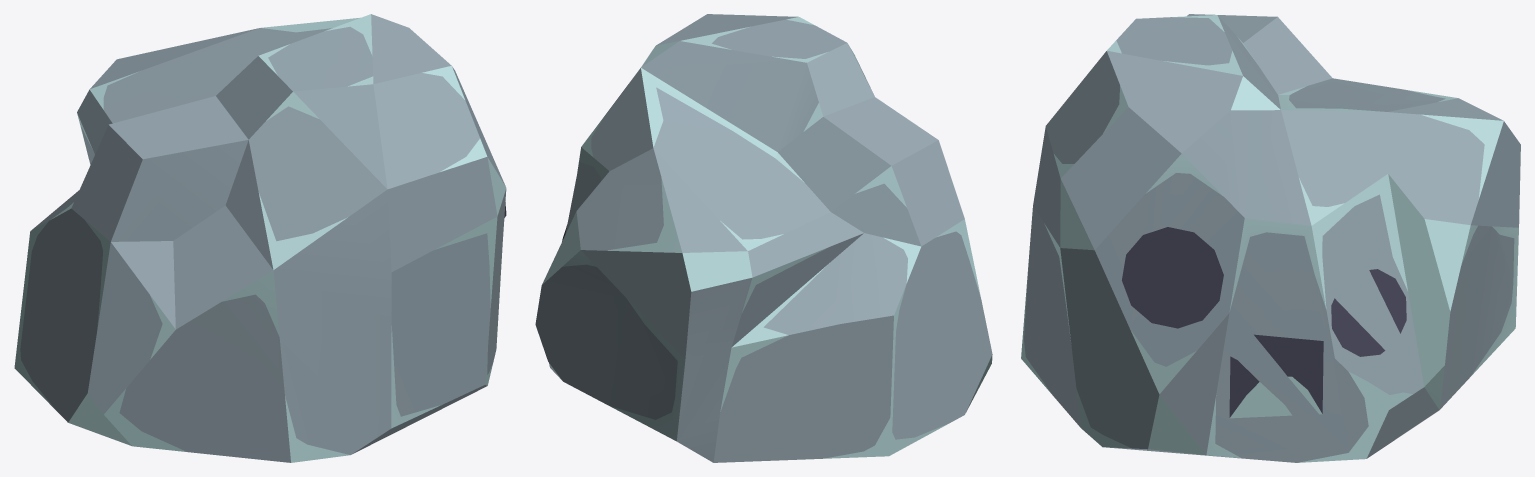
File: rock.fbx
The picture shows the model from 3 angles, left to right: view 1: azimuth 30°, elevation 25°; view 2: azimuth 150°, elevation 25°; view 3: azimuth 270°, elevation 25°; orthographic projection. The views are drawn at different scales.
Visible parts, largest first — view 1: rock; view 2: rock; view 3: rock.
Part boxes in pixels (x1,y1,x2,y2): rock: [14, 14, 506, 462]; rock: [535, 14, 992, 462]; rock: [1021, 14, 1520, 462].
Size of the model in its own units: 461 by 365 by 474.
1 material, 1 textured.
